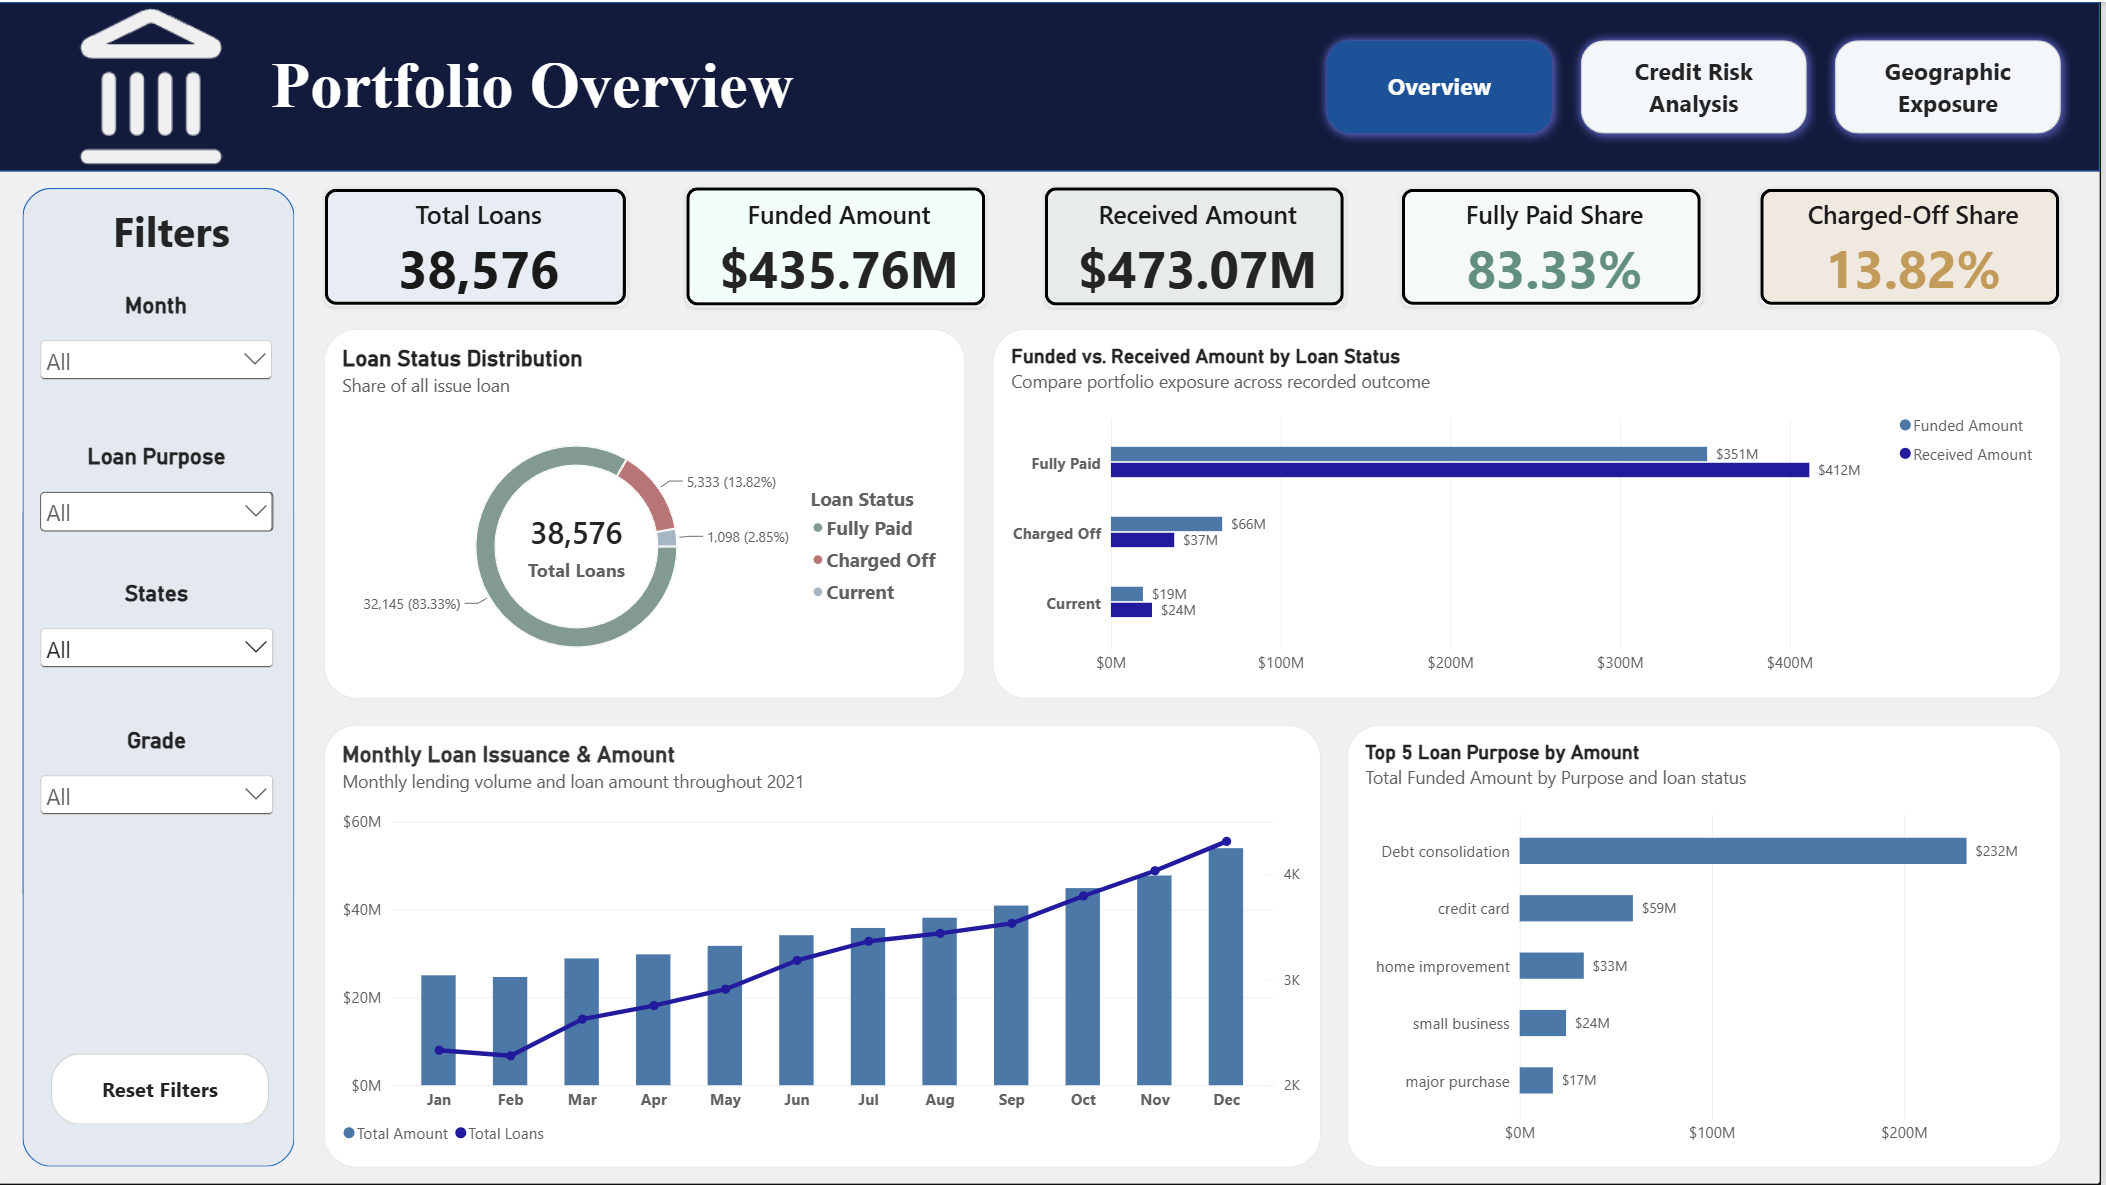

The page's visual inventory and layout, read from the dashboard file:
{"tool":"powerbi","page":{"name":"Overview","canvas":[1920,1080],"ordinal":0},"visuals":[{"type":"shape","box":[0,0,1919.9,154.7],"z":0},{"type":"shape","box":[23.6,170.4,248.3,893.5],"z":1000},{"type":"cardVisual","fields":{"Data":["Calculated_Measures.1_Total Loans"]},"box":[299.1,170.4,277.3,108.7],"z":2000},{"type":"donutChart","title":"Loan Status Distribution","fields":{"Category":["analytics Fact_Loan.loan_status"],"Y":["Calculated_Measures.1_Total Loans"]},"box":[299.1,299.1,585.4,337.1],"z":3000},{"type":"cardVisual","fields":{"Data":["Calculated_Measures.Fully Paid Share"]},"box":[1289.9,170.4,275.5,108.7],"z":4000},{"type":"cardVisual","fields":{"Data":["Calculated_Measures.Received Amount"]},"box":[960.2,168.6,275.5,110.6],"z":5000},{"type":"cardVisual","fields":{"Data":["Calculated_Measures.2_Funded Amount"]},"box":[630.6,168.6,275.5,110.6],"z":6000},{"type":"cardVisual","fields":{"Data":["Calculated_Measures.Charged-Off Share"]},"box":[1619.6,170.3,275.5,108.7],"z":7000},{"type":"clusteredBarChart","title":"Funded vs. Received Amount by Loan Status","fields":{"Category":["analytics Fact_Loan.loan_status"],"Y":["Calculated_Measures.Funded Amount","Calculated_Measures.Received Amount"]},"box":[910.5,298.8,984.8,337.5],"z":8000},{"type":"lineClusteredColumnComboChart","title":"Monthly Loan Issuance & Amount","fields":{"Category":["analytics Dim_Date.month_name"],"Y":["Calculated_Measures.Funded Amount"],"Y2":["Calculated_Measures.Total Loans"]},"box":[299.1,659.7,909.9,404.2],"z":9000},{"type":"barChart","title":"Top 5 Loan Purpose by Amount","fields":{"Category":["analytics Dim_LoanPurpose.purpose"],"Y":["Calculated_Measures.2_Funded Amount"]},"box":[1232.5,659.6,662.7,404.1],"z":10000},{"type":"textbox","box":[208,42,552,70],"z":11000},{"type":"slicer","title":"Loan Purpose","fields":{"Values":["analytics Dim_LoanPurpose.purpose"]},"box":[34.4,402.4,222.9,108.7],"z":12000},{"type":"actionButton","title":"Reset Filter","box":[48.9,960.6,199.1,65],"z":13000},{"type":"slicer","title":"States","fields":{"Values":["analytics Dim_State.state_name"]},"box":[34.4,527.4,222.9,108.7],"z":14000},{"type":"slicer","title":"Grade","fields":{"Values":["analytics Dim_CreditGrade.grade"]},"box":[34.4,661.6,222.9,299.1],"z":15000},{"type":"textbox","box":[43.5,183.1,230.5,81.7],"z":16000},{"type":"slicer","title":"Month","fields":{"Values":["analytics Dim_Date.Date.Variation.Date Hierarchy.Month"]},"box":[34.2,264.3,221.8,110.9],"z":17000},{"type":"pageNavigator","box":[1204.6,26.3,690.6,103.3],"z":18000},{"type":"image","box":[10.9,0,259,154],"z":19000}]}

Visuals, with their boxes in screenshot pixels (x1, y1, x2, y2), scaled from the page's 1920x1080 canvas onto the 2106x1185 screenshot:
shape: left=0, top=0, right=2105, bottom=170
shape: left=26, top=187, right=298, bottom=1167
cardVisual - Calculated_Measures.1_Total Loans: left=328, top=187, right=632, bottom=306
"Loan Status Distribution" donutChart: left=328, top=328, right=970, bottom=698
cardVisual - Calculated_Measures.Fully Paid Share: left=1415, top=187, right=1717, bottom=306
cardVisual - Calculated_Measures.Received Amount: left=1053, top=185, right=1355, bottom=306
cardVisual - Calculated_Measures.2_Funded Amount: left=692, top=185, right=994, bottom=306
cardVisual - Calculated_Measures.Charged-Off Share: left=1776, top=187, right=2079, bottom=306
"Funded vs. Received Amount by Loan Status" clusteredBarChart: left=999, top=328, right=2079, bottom=698
"Monthly Loan Issuance & Amount" lineClusteredColumnComboChart: left=328, top=724, right=1326, bottom=1167
"Top 5 Loan Purpose by Amount" barChart: left=1352, top=724, right=2079, bottom=1167
textbox: left=228, top=46, right=834, bottom=123
"Loan Purpose" slicer: left=38, top=442, right=282, bottom=561
"Reset Filter" actionButton: left=54, top=1054, right=272, bottom=1125
"States" slicer: left=38, top=579, right=282, bottom=698
"Grade" slicer: left=38, top=726, right=282, bottom=1054
textbox: left=48, top=201, right=301, bottom=291
"Month" slicer: left=38, top=290, right=281, bottom=412
pageNavigator: left=1321, top=29, right=2079, bottom=142
image: left=12, top=0, right=296, bottom=169
